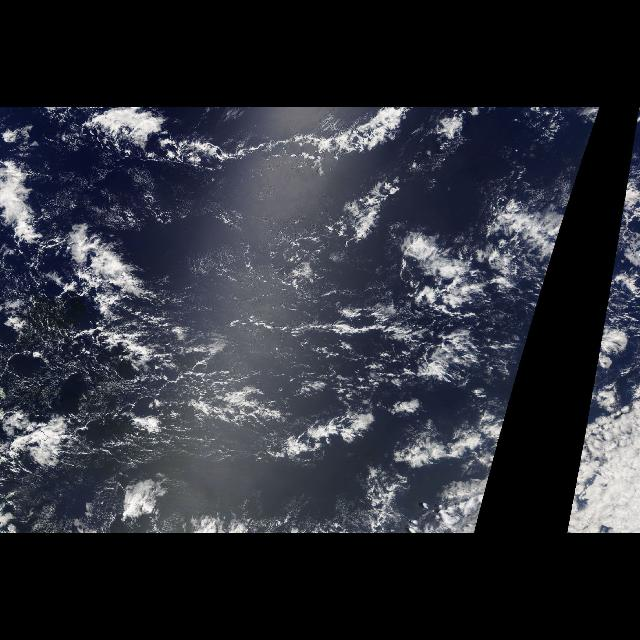Fish: (6, 112, 426, 280)
Gravel: (1, 109, 599, 468), (594, 170, 628, 376)
